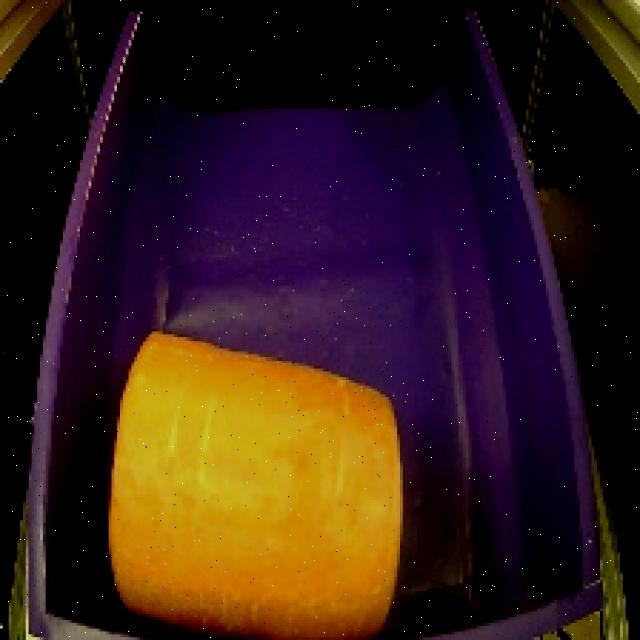carrots: (100, 320, 412, 640)
